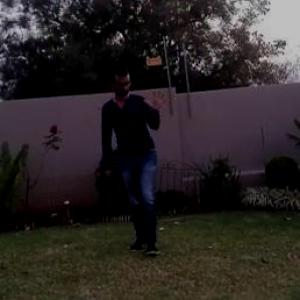follow_hand: (144, 86, 171, 113)
